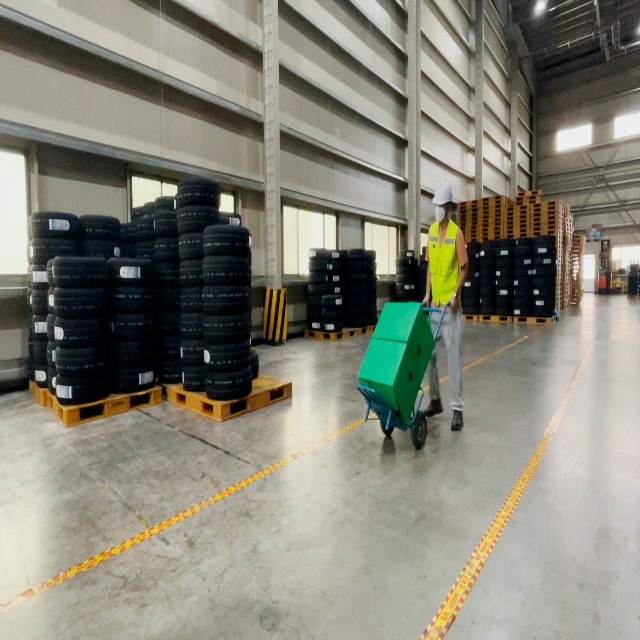Box: (357, 337, 421, 428), (371, 301, 435, 383)
Worker: (421, 182, 469, 431)
